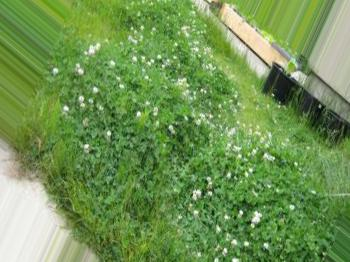patch: (8, 159, 20, 182)
